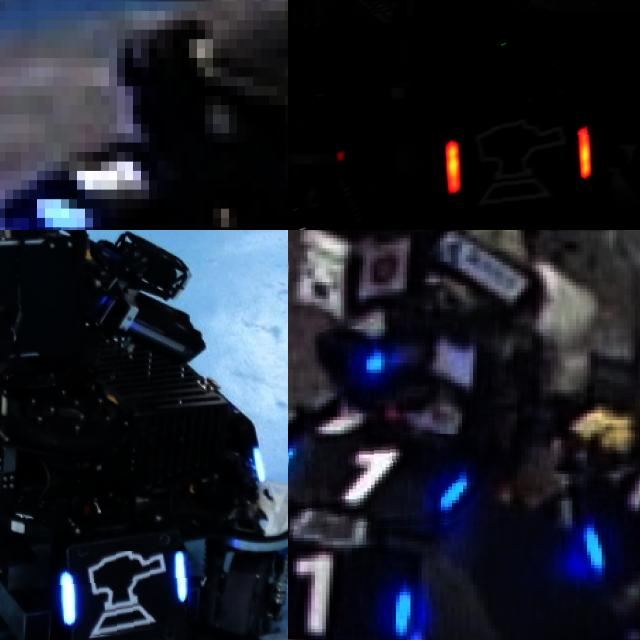B1: (288, 433, 476, 534), (288, 545, 421, 640), (572, 467, 640, 571)
Bs: (56, 551, 188, 638)
Rs: (441, 109, 593, 220)
